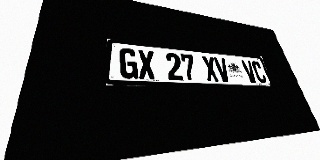2: (165, 52, 184, 80)
7: (179, 54, 198, 81)
C: (250, 61, 268, 83)
G: (119, 48, 138, 79)
V: (213, 57, 231, 82), (241, 60, 258, 83)
X: (137, 49, 156, 80), (201, 56, 220, 82)
